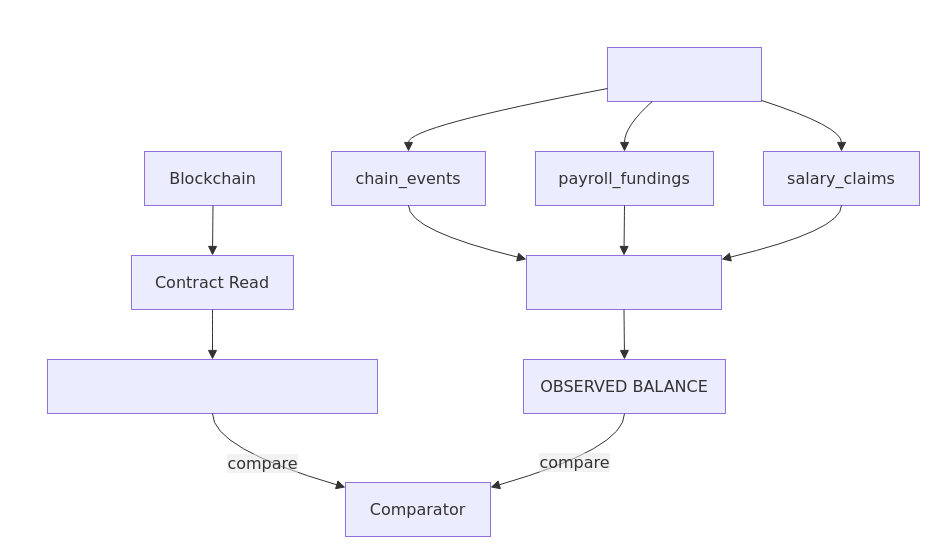
Image size: 937x554. Some labels were removed from this diagram. The shapes that lost their labels are listed below. From the top down, each one's centre as x and y in pixels, then its label:
[684,74]: Indexed Data
[624,282]: Indexed Projection
[212,386]: EXPECTED / AUTHORITATIVE BALANCE
